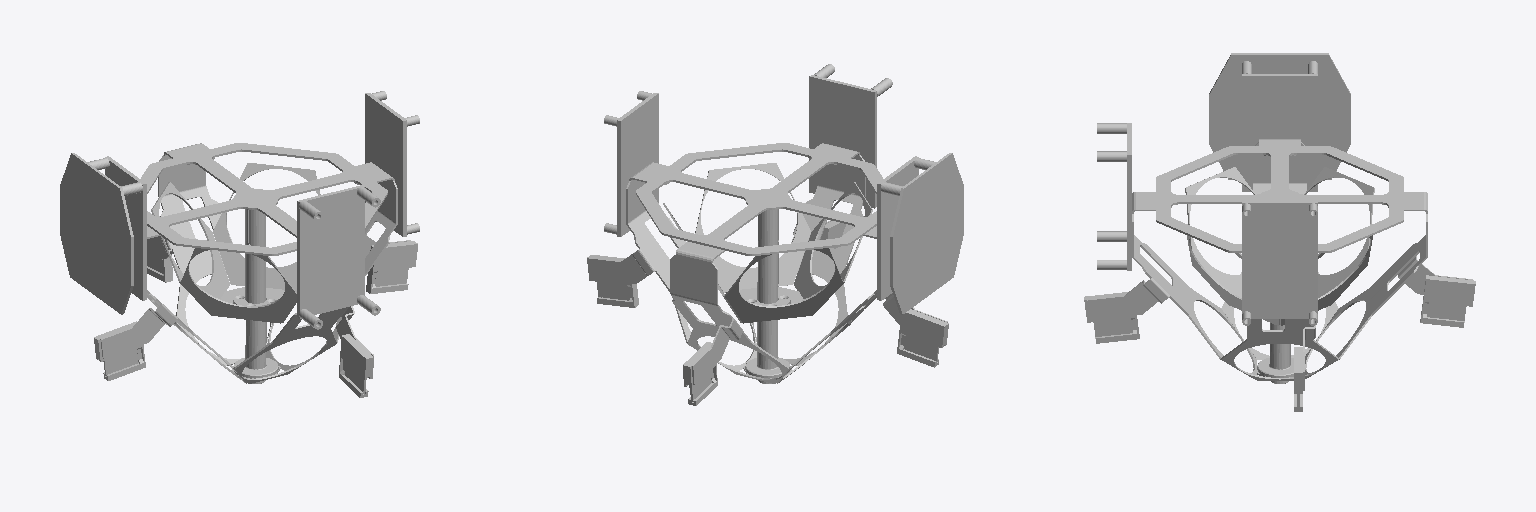
File: Internals_WithBoards.obj
3 renders of one model, left to right at view 1: azimuth 30°, elevation 25°; view 2: azimuth 150°, elevation 25°; view 3: azimuth 270°, elevation 25°, orthographic.
Parts seen in each view (by area): view 1: Volumenkörper1:1, Volumenkörper1:16, Volumenkörper1:17, Volumenkörper1:8, Volumenkörper1:2, Volumenkörper1:3, Volumenkörper1:26, Volumenkörper1:13, Volumenkörper1:25, Volumenkörper1:21, Volumenkörper1:19; view 2: Volumenkörper1:1, Volumenkörper1:17, Volumenkörper1:16, Volumenkörper1:2, Volumenkörper1:8, Volumenkörper1:3, Volumenkörper1:26, Volumenkörper1:13, Volumenkörper1:19, Volumenkörper1:23, Volumenkörper1:25; view 3: Volumenkörper1:1, Volumenkörper1:3, Volumenkörper1:17, Volumenkörper1:16, Volumenkörper1:13, Volumenkörper1:2, Volumenkörper1:23, Volumenkörper1:26, Volumenkörper1:8, Volumenkörper1:21, Volumenkörper1:22, Volumenkörper1:20 (+1 smaller).
Part boxes in pixels (bbox=[...]): Volumenkörper1:1: bbox=[100, 143, 410, 383]; Volumenkörper1:16: bbox=[60, 153, 133, 314]; Volumenkörper1:17: bbox=[141, 143, 387, 255]; Volumenkörper1:8: bbox=[297, 185, 364, 318]; Volumenkörper1:2: bbox=[151, 163, 320, 323]; Volumenkörper1:3: bbox=[365, 93, 406, 236]; Volumenkörper1:26: bbox=[234, 209, 278, 383]; Volumenkörper1:13: bbox=[105, 156, 146, 300]; Volumenkörper1:25: bbox=[366, 241, 417, 293]; Volumenkörper1:21: bbox=[339, 334, 373, 397]; Volumenkörper1:19: bbox=[94, 321, 145, 380]; Volumenkörper1:1: bbox=[588, 143, 947, 384]; Volumenkörper1:17: bbox=[636, 143, 882, 255]; Volumenkörper1:16: bbox=[890, 153, 963, 314]; Volumenkörper1:2: bbox=[663, 163, 872, 323]; Volumenkörper1:8: bbox=[809, 75, 876, 208]; Volumenkörper1:3: bbox=[617, 93, 658, 236]; Volumenkörper1:26: bbox=[745, 209, 789, 383]; Volumenkörper1:13: bbox=[877, 156, 918, 300]; Volumenkörper1:19: bbox=[897, 309, 948, 367]; Volumenkörper1:23: bbox=[683, 342, 717, 405]; Volumenkörper1:25: bbox=[587, 255, 638, 307]; Volumenkörper1:1: bbox=[1087, 139, 1472, 390]; Volumenkörper1:3: bbox=[1242, 201, 1317, 318]; Volumenkörper1:17: bbox=[1156, 146, 1403, 252]; Volumenkörper1:16: bbox=[1209, 53, 1350, 179]; Volumenkörper1:13: bbox=[1242, 74, 1317, 191]; Volumenkörper1:2: bbox=[1185, 167, 1374, 325]; Volumenkörper1:23: bbox=[1420, 275, 1475, 327]; Volumenkörper1:26: bbox=[1257, 323, 1293, 383]; Volumenkörper1:8: bbox=[1127, 123, 1131, 270]; Volumenkörper1:21: bbox=[1084, 292, 1139, 343]; Volumenkörper1:22: bbox=[1427, 302, 1466, 320]; Volumenkörper1:20: bbox=[1093, 318, 1132, 336].
Bounding box in the file's own units: 259 × 182 × 259.